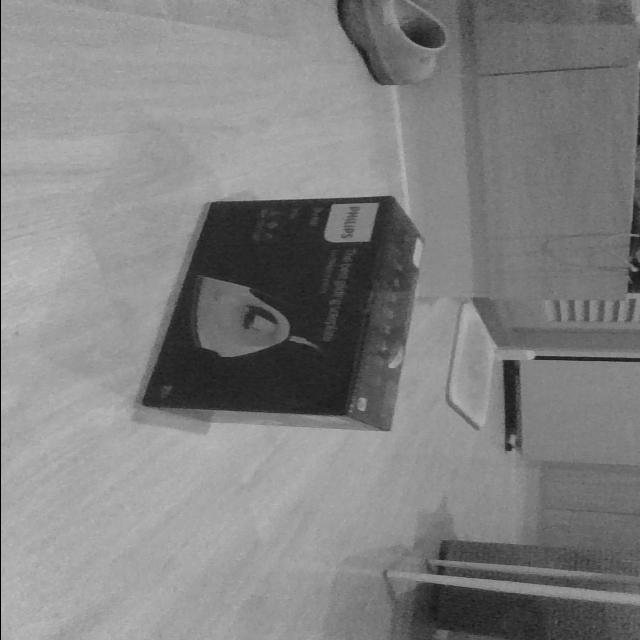IRON: (136, 192, 430, 434)
